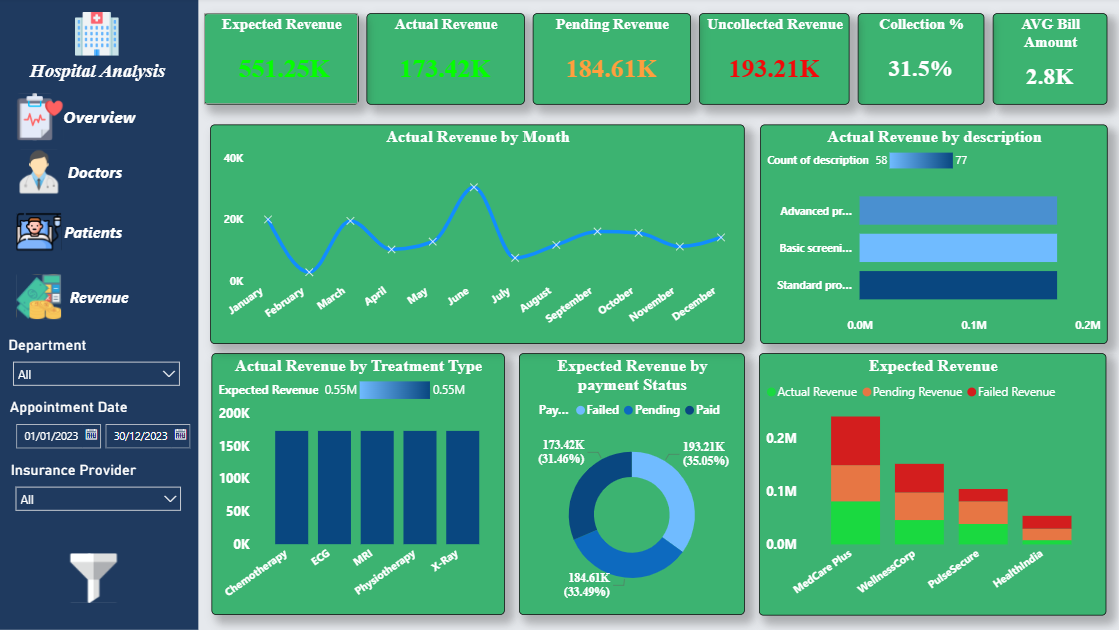

What the dashboard file says about the page in this screenshot:
{"tool":"powerbi","page":{"name":"Revenue","canvas":[1280,720],"ordinal":3},"visuals":[{"type":"shape","box":[0,0,232.5,720],"z":0},{"type":"textbox","box":[20.9,67,193.4,37.4],"z":1000},{"type":"actionButton","box":[20.9,104.4,144,64.8],"z":2000},{"type":"actionButton","box":[20.9,169.2,128.6,59.3],"z":3000},{"type":"slicer","title":"Department","fields":{"Values":["doctors.specialization"]},"box":[11.4,385.7,210,71.4],"z":4000},{"type":"slicer","title":"Appointment Date","fields":{"Values":["appointments.appointment_date"]},"box":[12.9,457.1,220,71.4],"z":5000},{"type":"slicer","title":"Insurance Provider","fields":{"Values":["patients.insurance_provider"]},"box":[13.7,528.3,208.6,71.4],"z":6000},{"type":"image","box":[87.9,17.6,57.1,49.5],"z":7000},{"type":"actionButton","box":[20.9,237.4,128.6,59.3],"z":8000},{"type":"actionButton","box":[20.9,312.1,136.3,59.3],"z":9000},{"type":"cardVisual","title":"AVG Bill Amount","fields":{"Data":["measuress.Average Bill"]},"box":[1136.2,17.8,130.4,104.3],"z":10000},{"type":"columnChart","fields":{"Y":["measuress.Actual Revenue"],"Category":["treatments.treatment_type"]},"box":[247,404.8,333.4,297.8],"z":11000},{"type":"cardVisual","title":"Actual Revenue","fields":{"Data":["measuress.Paid Revenue"]},"box":[423.7,17.8,179.8,104.3],"z":12000},{"type":"donutChart","title":"Expected Revenue by payment Status","fields":{"Category":["billing.payment_status"],"Y":["measuress.Total Revenue"]},"box":[596.9,404.8,256.6,297.8],"z":13000},{"type":"barChart","fields":{"Category":["treatments.description"],"Y":["measuress.Actual Revenue"]},"box":[871.4,145.5,395.2,249.7],"z":14000},{"type":"cardVisual","title":"Expected Revenue","fields":{"Data":["measuress.Total Revenue"]},"box":[238.8,17.8,175.6,104.3],"z":15000},{"type":"cardVisual","title":"Collection %","fields":{"Data":["measuress.Collection %"]},"box":[982.8,17.8,144.1,104.3],"z":16000},{"type":"cardVisual","title":"Uncollected Revenue","fields":{"Data":["measuress.Failed Revenue"]},"box":[801.9,17.8,171.5,104.3],"z":17000},{"type":"cardVisual","title":"Pending Revenue","fields":{"Data":["measuress.Pending Revenue"]},"box":[612.8,17.8,179.8,104.3],"z":18000},{"type":"columnChart","title":"Expected Revenue","fields":{"Y":["measuress.Actual Revenue","measuress.Pending Revenue","measuress.Failed Revenue"],"Category":["patients.insurance_provider"]},"box":[871,405,395,298],"z":19000},{"type":"lineChart","fields":{"Category":["billing.bill_date.Variation.Date Hierarchy.Month"],"Y":["measuress.Actual Revenue"]},"box":[245.6,145.5,607.9,249.7],"z":20000},{"type":"actionButton","box":[81,620.2,64.5,82.3],"z":21000}]}

Visuals, with their boxes in screenshot pixels (x1, y1, x2, y2), scaled from the page's 1280x720 canvas onto the 1119x630 screenshot:
shape: 0:0:203:629
textbox: 18:59:187:91
actionButton: 18:91:144:148
actionButton: 18:148:131:200
"Department" slicer: 10:337:194:400
"Appointment Date" slicer: 11:400:204:462
"Insurance Provider" slicer: 12:462:194:525
image: 77:15:127:59
actionButton: 18:208:131:260
actionButton: 18:273:137:325
"AVG Bill Amount" cardVisual: 993:16:1107:107
columnChart - measuress.Actual Revenue x treatments.treatment_type: 216:354:507:615
"Actual Revenue" cardVisual: 370:16:528:107
"Expected Revenue by payment Status" donutChart: 522:354:746:615
barChart - treatments.description x measuress.Actual Revenue: 762:127:1107:346
"Expected Revenue" cardVisual: 209:16:362:107
"Collection %" cardVisual: 859:16:985:107
"Uncollected Revenue" cardVisual: 701:16:851:107
"Pending Revenue" cardVisual: 536:16:693:107
"Expected Revenue" columnChart: 761:354:1107:615
lineChart - billing.bill_date.Variation.Date Hierarchy.Month x measuress.Actual Revenue: 215:127:746:346
actionButton: 71:543:127:615
